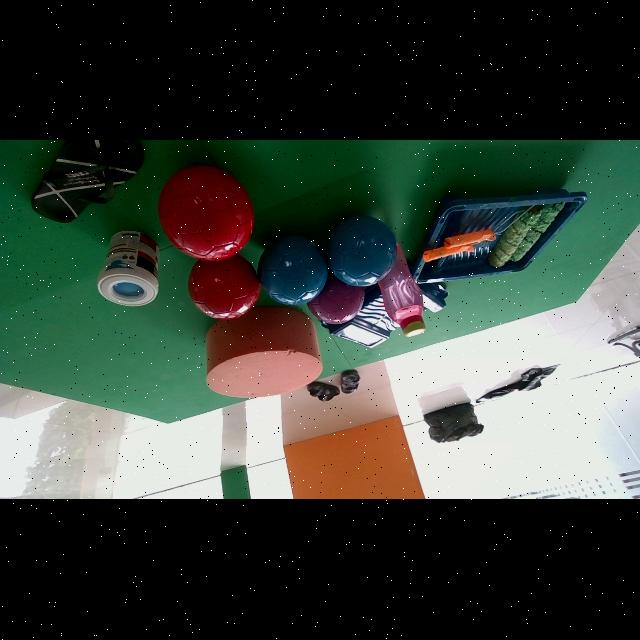B: (257, 237, 328, 306), (328, 215, 396, 287)
P: (308, 272, 365, 325)
R: (159, 165, 255, 261), (188, 255, 260, 321)
